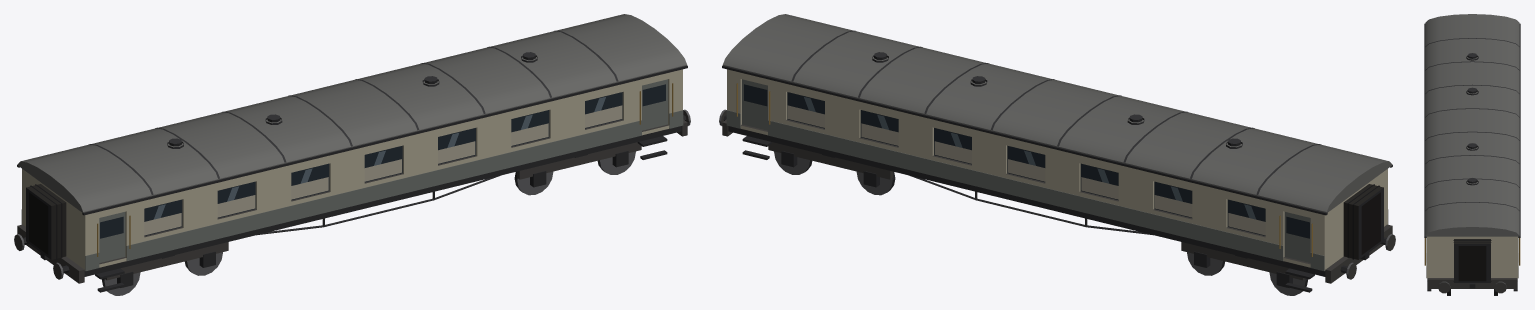
The model's file is coach_medic.glb.
3 renders of one model, left to right at view 1: azimuth 30°, elevation 25°; view 2: azimuth 150°, elevation 25°; view 3: azimuth 270°, elevation 25°, orthographic. The views are drawn at different scales.
Parts seen in each view (by area): view 1: coach_medic_LOD0; view 2: coach_medic_LOD0; view 3: coach_medic_LOD0.
Boxes of the visible parts, bbox=[...] form: coach_medic_LOD0: bbox=[14, 14, 690, 295]; coach_medic_LOD0: bbox=[719, 14, 1395, 295]; coach_medic_LOD0: bbox=[1424, 14, 1520, 295].
Size of what is drawn, in the model's own units: 16 by 3.02 by 2.94.
Materials: 1 (1 with a texture image).
